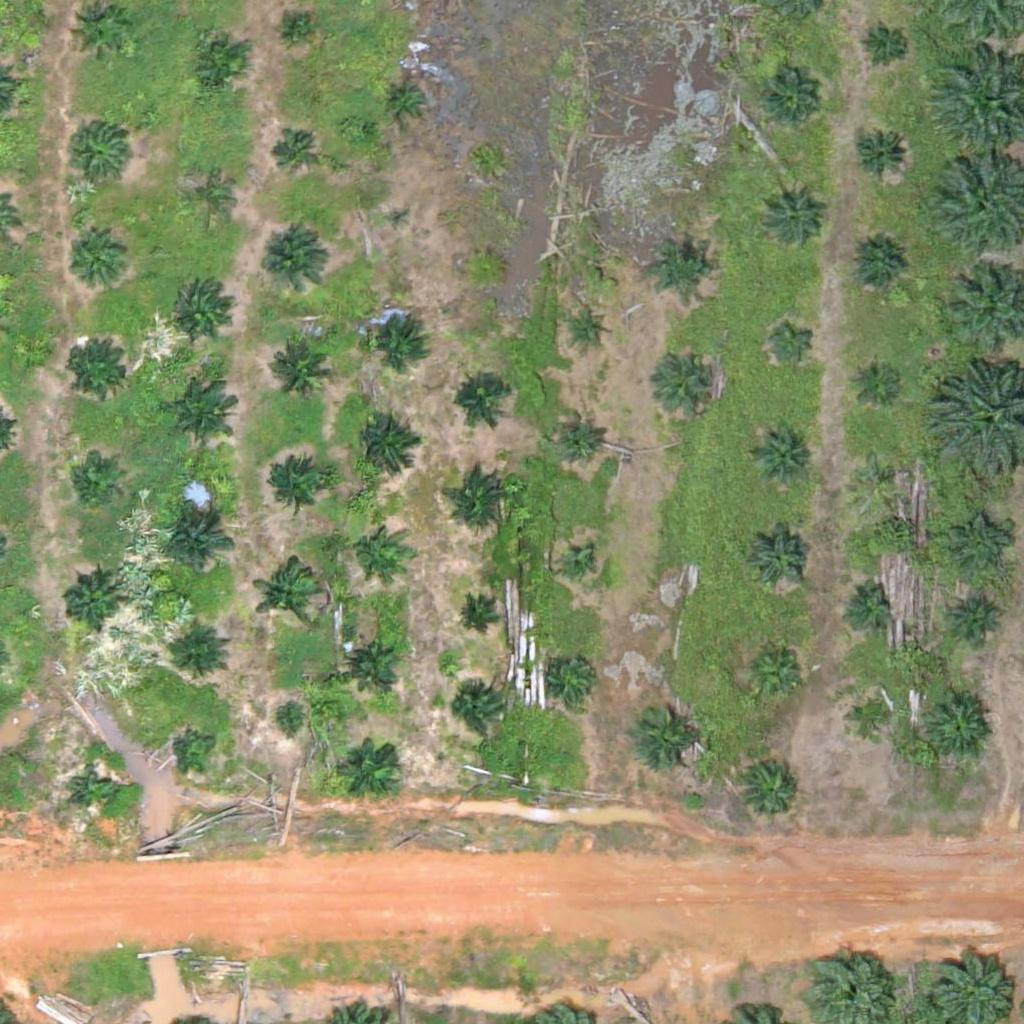Kelapa_Sawit: (260, 457, 335, 533), (163, 376, 238, 452), (256, 229, 331, 305), (264, 331, 339, 407), (631, 699, 706, 775), (252, 559, 327, 635), (161, 508, 236, 583), (920, 689, 995, 764), (661, 350, 724, 413), (650, 234, 713, 297), (365, 306, 428, 369), (342, 736, 405, 799), (169, 626, 232, 689), (341, 631, 404, 694), (61, 574, 124, 637), (759, 73, 822, 136), (748, 422, 811, 485), (748, 527, 811, 590), (741, 759, 804, 822), (741, 641, 804, 704), (849, 123, 912, 186), (451, 468, 513, 531), (450, 368, 512, 431), (68, 338, 130, 401), (354, 414, 417, 476), (171, 280, 233, 343), (68, 2, 130, 65), (188, 35, 250, 98), (66, 122, 128, 185), (70, 233, 132, 296), (760, 184, 822, 247), (948, 514, 1010, 577), (846, 235, 908, 298), (954, 592, 1004, 643), (852, 352, 902, 403), (851, 449, 901, 500), (841, 578, 891, 629), (767, 314, 817, 365), (174, 724, 224, 775), (68, 766, 118, 817), (269, 128, 319, 179), (350, 523, 400, 573), (69, 456, 119, 506), (451, 686, 501, 736), (551, 653, 601, 703), (845, 694, 895, 744), (553, 412, 603, 462), (184, 173, 234, 223), (861, 22, 911, 72), (383, 76, 433, 126), (570, 310, 608, 348), (560, 548, 598, 586), (269, 702, 307, 740), (467, 250, 505, 288), (455, 599, 492, 637), (283, 14, 308, 40), (387, 204, 412, 229)
